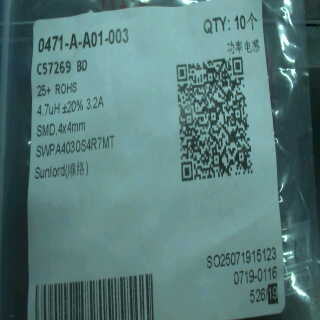4.7uH: (36, 100, 63, 118)
